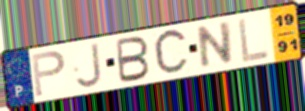B: (115, 35, 152, 85)
C: (152, 26, 191, 79)
J: (74, 41, 104, 90)
L: (236, 16, 271, 64)
N: (196, 20, 234, 71)
P: (30, 49, 67, 99)
